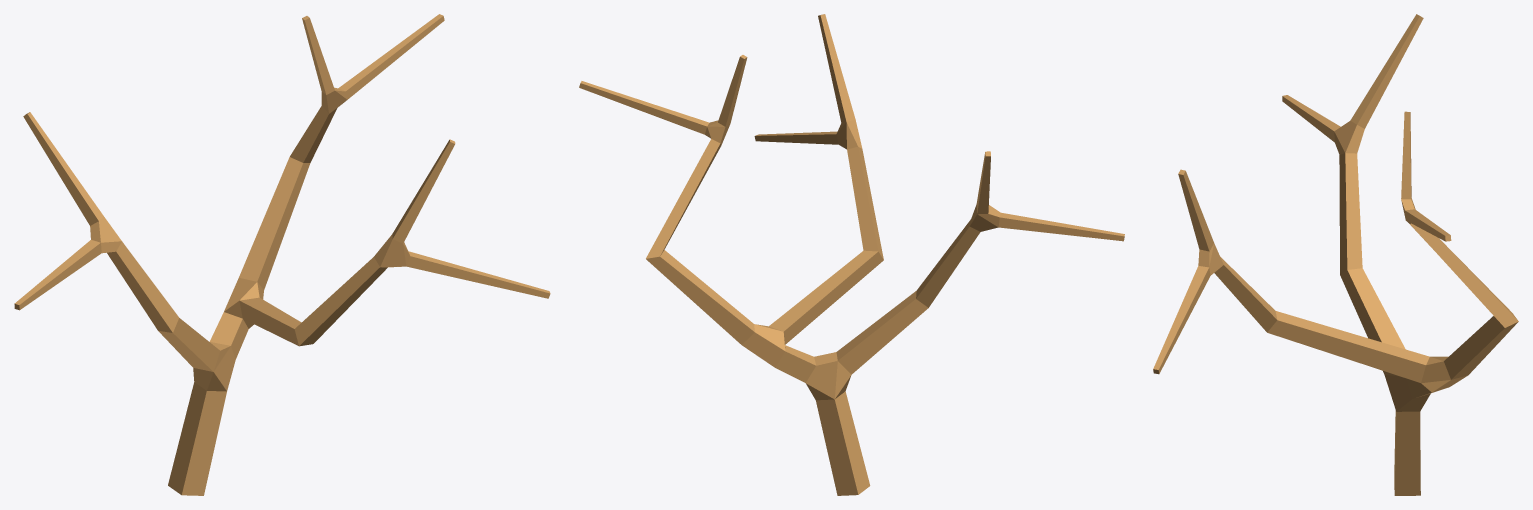
The model's file is Thorns_12.fbx.
3 views of the same model, side by side, from view 1: azimuth 30°, elevation 25°; view 2: azimuth 150°, elevation 25°; view 3: azimuth 270°, elevation 25° (orthographic). The views are drawn at different scales.
Visible parts, largest first — view 1: Thorns_12; view 2: Thorns_12; view 3: Thorns_12.
Boxes of the visible parts, box(x1,y1,x2,y2) form: Thorns_12: box(14, 14, 550, 495); Thorns_12: box(579, 14, 1124, 495); Thorns_12: box(1153, 14, 1518, 495).
Bounding box in the file's own units: 72.6 × 60.7 × 46.14.
